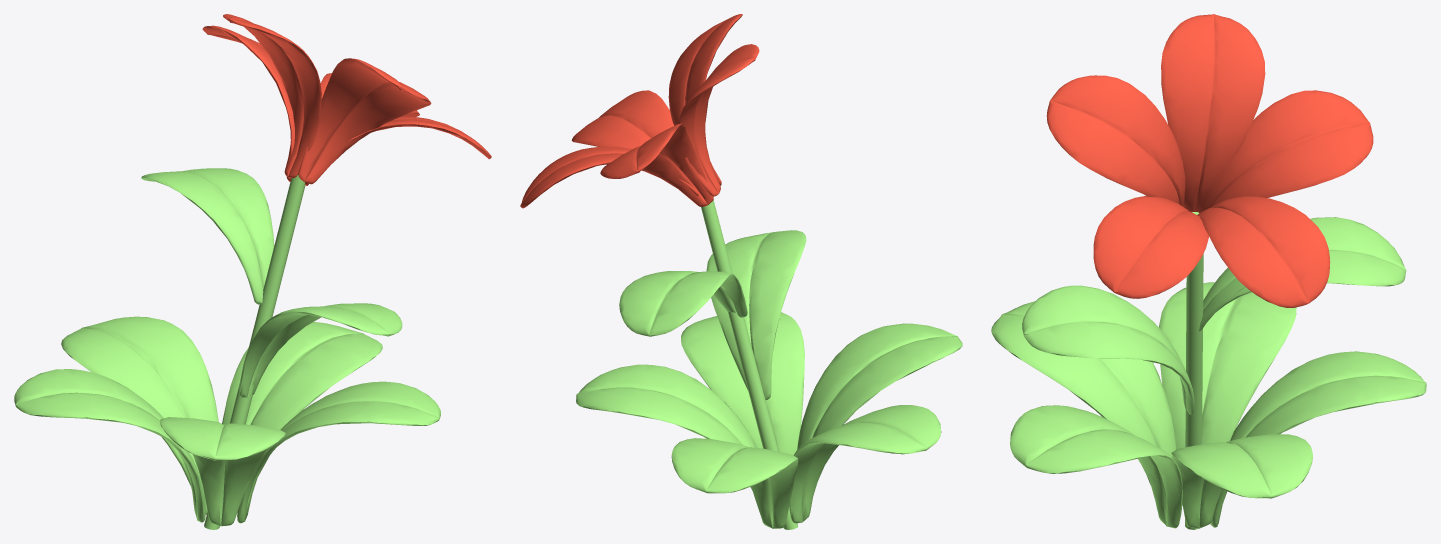
The model's file is flora1.obj.
3 views of the same model, side by side, from view 1: azimuth 30°, elevation 25°; view 2: azimuth 150°, elevation 25°; view 3: azimuth 270°, elevation 25° (orthographic). The views are drawn at different scales.
Visible parts, largest first — view 1: Subdivision_Surface.1; view 2: Subdivision_Surface.1; view 3: Subdivision_Surface.1.
Boxes of the visible parts, left/top/right/bottom form: Subdivision_Surface.1: left=14, top=14, right=491, bottom=529; Subdivision_Surface.1: left=520, top=14, right=962, bottom=529; Subdivision_Surface.1: left=991, top=14, right=1426, bottom=529.
Bounding box in the file's own units: 872 × 987 × 738.
